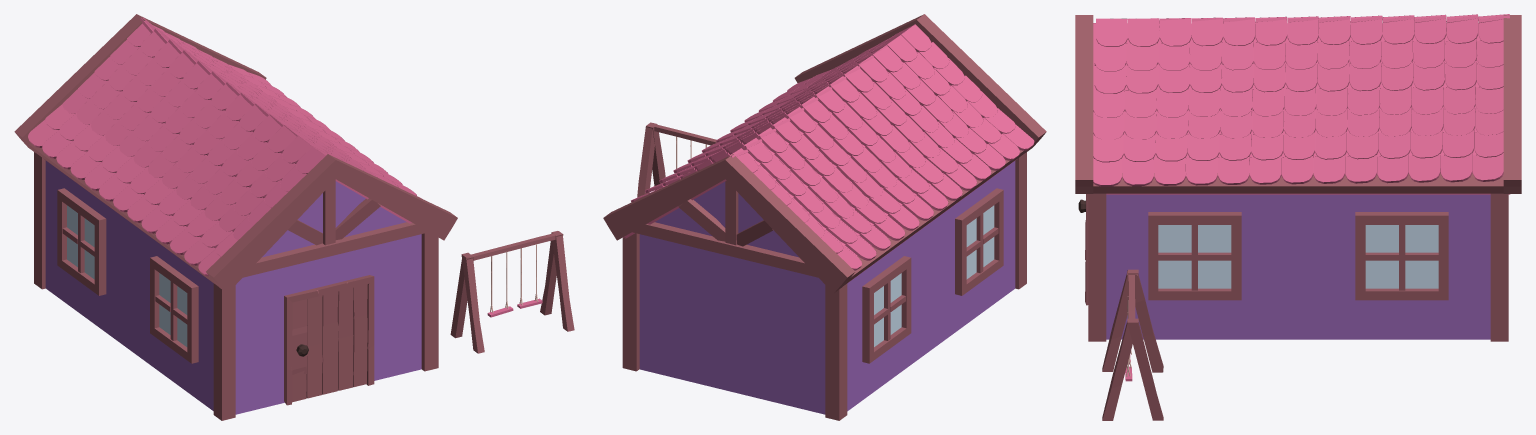
File: House.fbx
3 views of the same model, side by side, from view 1: azimuth 30°, elevation 25°; view 2: azimuth 150°, elevation 25°; view 3: azimuth 270°, elevation 25° (orthographic). The views are drawn at different scales.
Parts seen in each view (by area): view 1: roof tile.007, house body, roof beams, door, window (×2), vertical beams, leagan frame, roof beams 2, door frame, roof beams 3, roof beams 4, window interior.002 (+1 smaller); view 2: house body, roof tile.007, roof beams, window (×2), vertical beams, roof beams 2, leagan frame, roof beams 3, roof, roof beams 4, window interior.002, window interior.001; view 3: roof tile.007, house body, window (×2), roof beams, vertical beams, roof beams 4, leagan frame, roof, window interior.001, window interior.002, door frame.
Part boxes in pixels (<box>): roof tile.007: <box>28,17,421,276</box>; house body: <box>45,161,421,414</box>; roof beams: <box>14,14,457,293</box>; door: <box>291,284,367,402</box>; window (×2): <box>57,188,198,363</box>; vertical beams: <box>34,152,438,420</box>; leagan frame: <box>450,231,574,353</box>; roof beams 2: <box>243,180,428,277</box>; door frame: <box>284,275,374,405</box>; roof beams 3: <box>288,198,381,245</box>; roof beams 4: <box>29,143,217,285</box>; window interior.002: <box>78,213,177,340</box>; house body: <box>639,161,1015,414</box>; roof tile.007: <box>631,24,1034,270</box>; roof beams: <box>603,14,1046,293</box>; window (×2): <box>862,188,1003,363</box>; vertical beams: <box>622,152,1026,420</box>; roof beams 2: <box>632,181,817,277</box>; leagan frame: <box>637,122,716,197</box>; roof beams 3: <box>678,199,773,246</box>; roof: <box>623,52,1016,282</box>; roof beams 4: <box>683,150,1027,286</box>; window interior.002: <box>884,213,983,340</box>; window interior.001: <box>874,227,998,324</box>; roof tile.007: <box>1093,14,1509,186</box>; house body: <box>1106,194,1490,339</box>; window (×2): <box>1148,212,1448,300</box>; roof beams: <box>1075,15,1521,193</box>; vertical beams: <box>1088,193,1508,341</box>; roof beams 4: <box>1093,173,1503,193</box>; leagan frame: <box>1102,269,1163,420</box>; roof: <box>1093,23,1510,194</box>; window interior.001: <box>1158,252,1438,260</box>; window interior.002: <box>1191,225,1405,290</box>; door frame: <box>1085,194,1088,305</box>.
Size of the model in its own units: 694 by 429 by 642.
